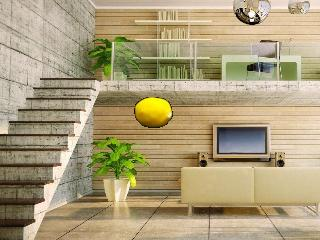lemon: (134, 99, 171, 129)
